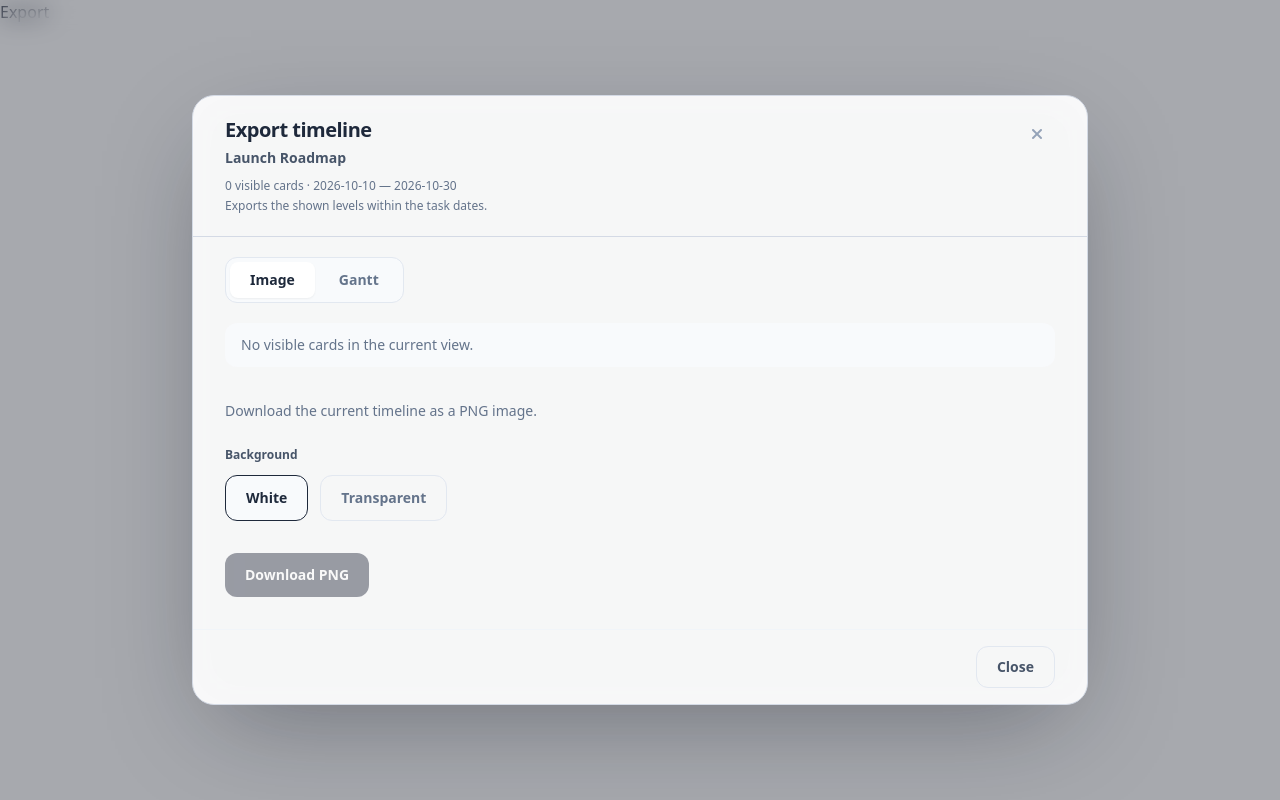
Test: timeline export dialog › disables both formats and hides the chart when the view has no visible cards
Expected: the dialog shows "0 visible cards", [225,177,457,194]
Expected: the button "Download PNG" is disabled, [225,553,369,597]
Click the tab "Gantt" at coordinates (359, 280), box [319,262,399,298]
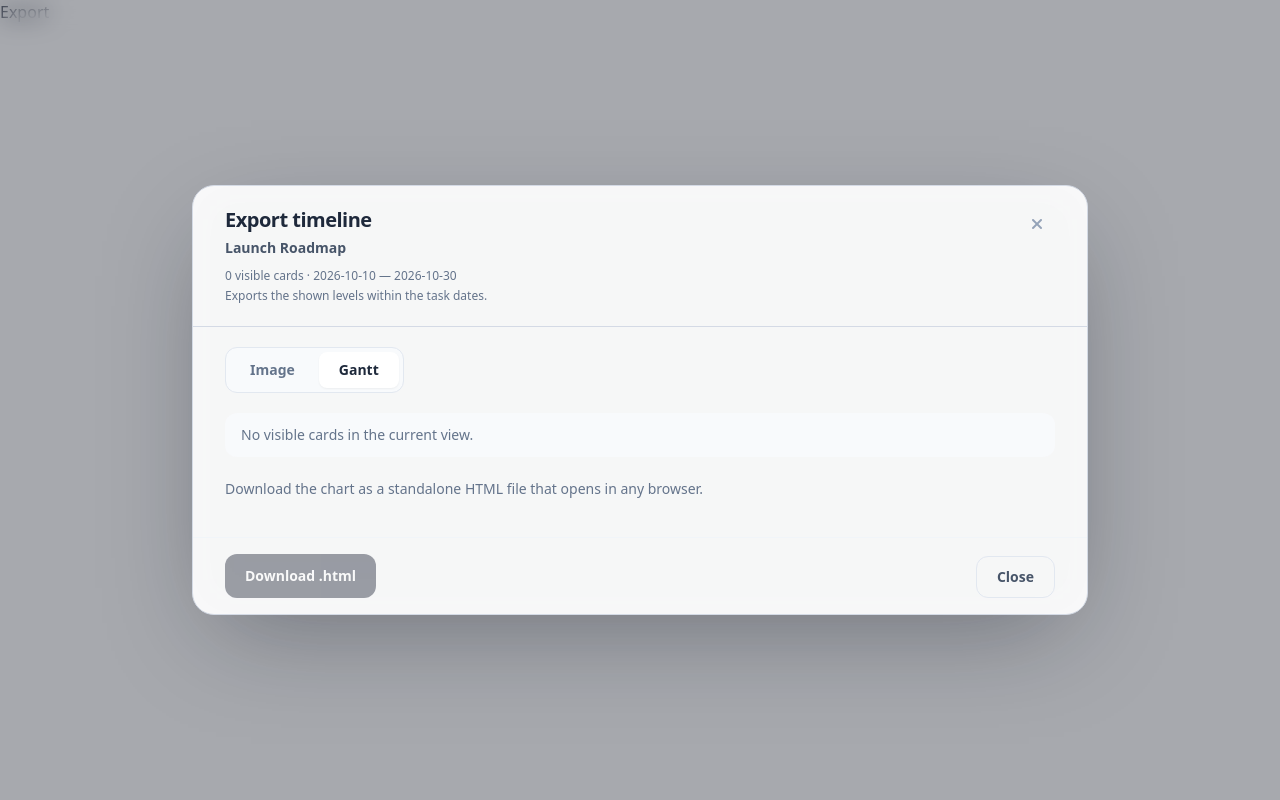
Expected: the button "Download .html" is disabled, [225,554,376,598]
